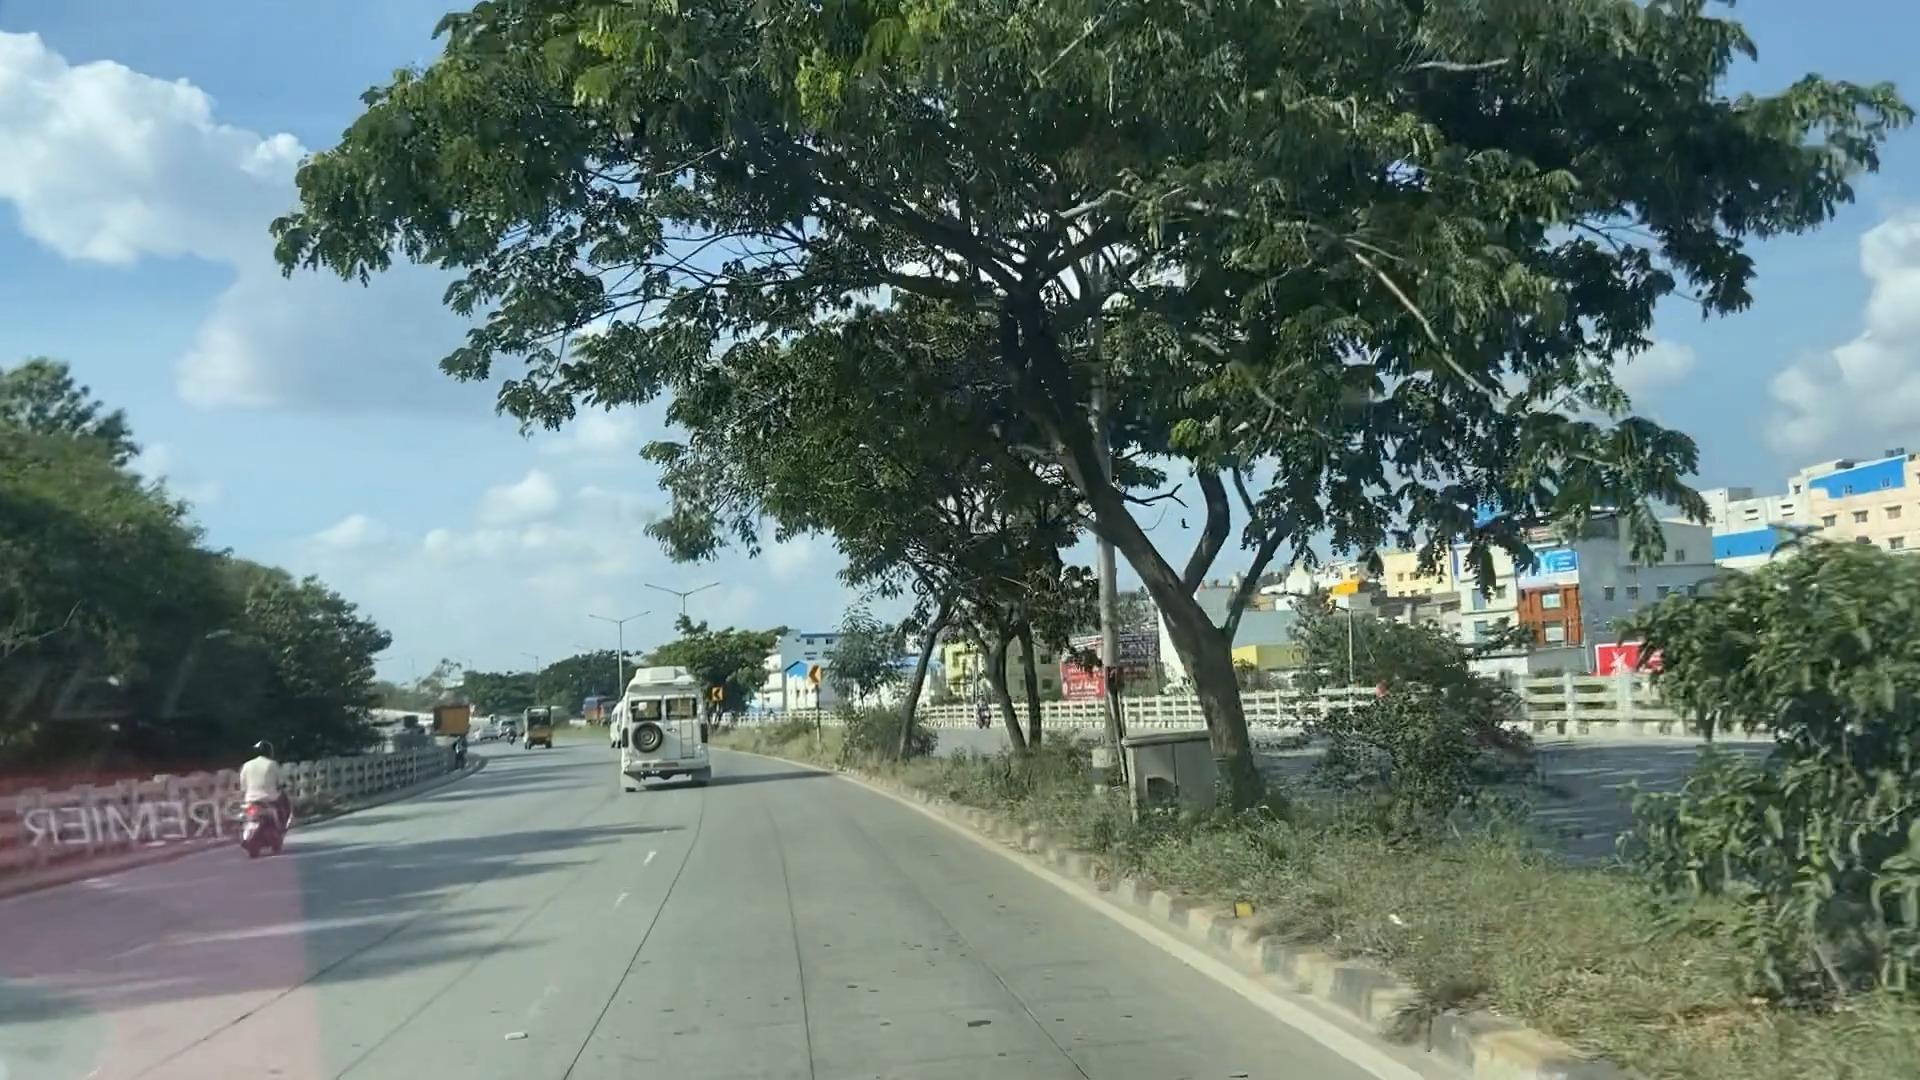HMV: (604, 662, 708, 786)
LMV: (236, 734, 289, 863)
